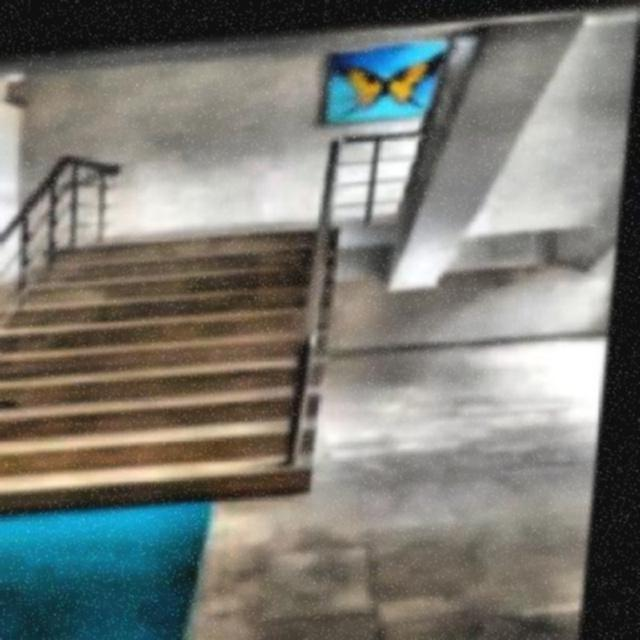stair: (2, 217, 350, 514)
